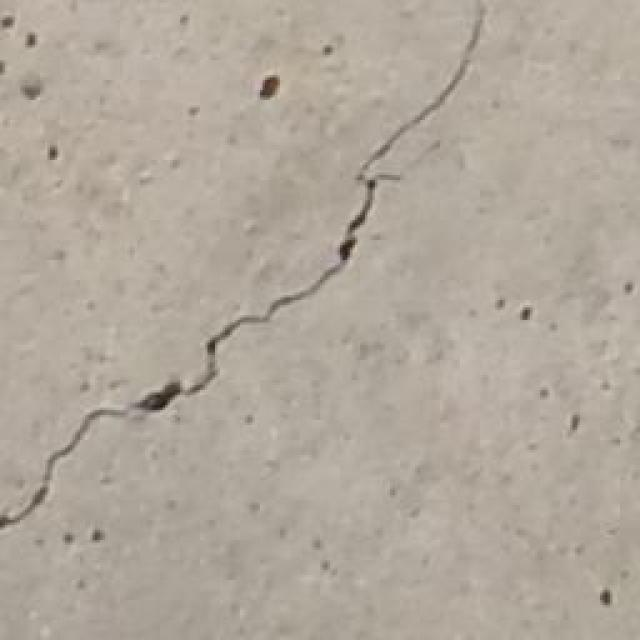concrete-crack: (1, 1, 487, 528)
